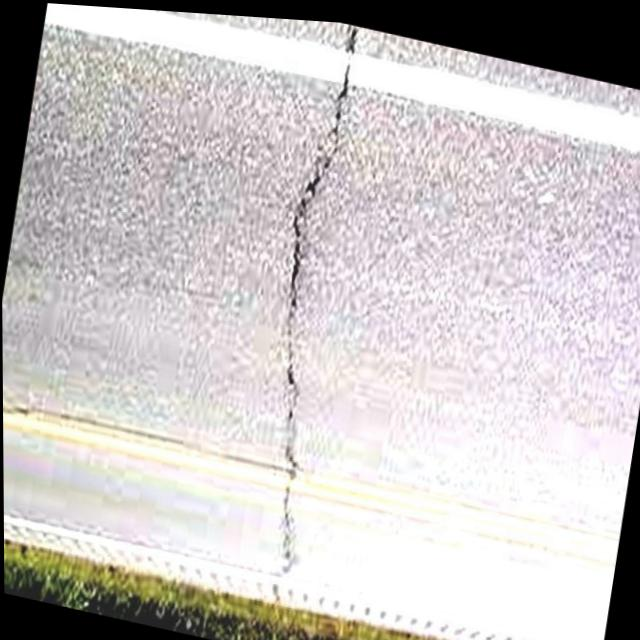Crack: (260, 139, 357, 334), (250, 286, 334, 489), (243, 424, 341, 595), (290, 15, 371, 189)
